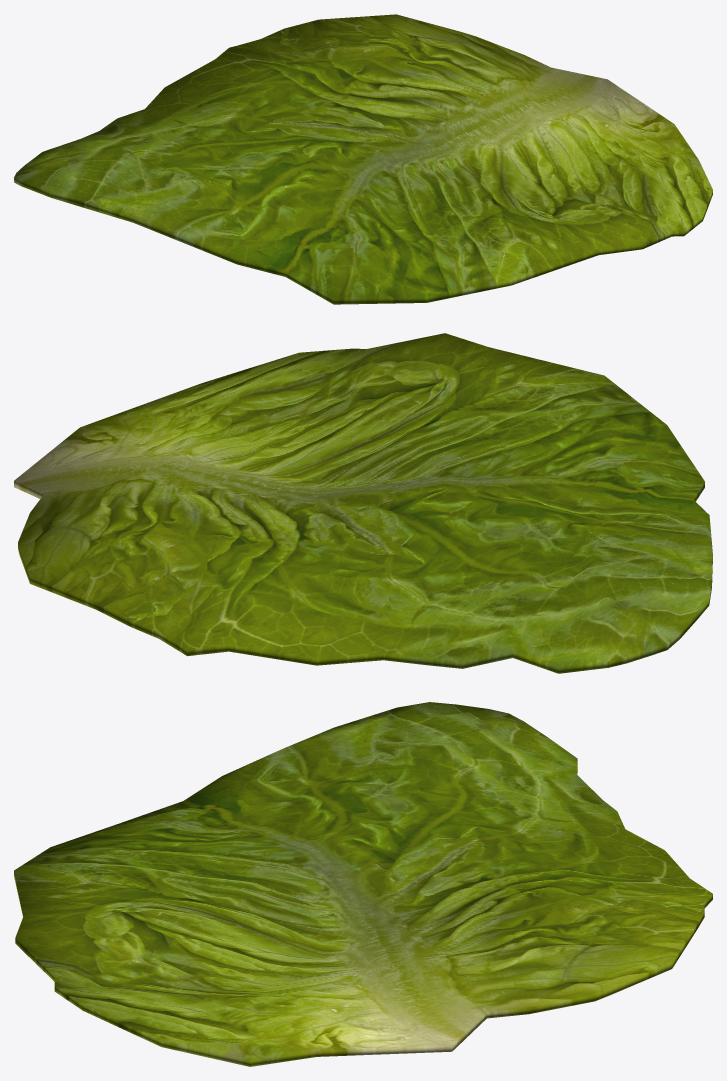
File: lettuce.fbx
3 renders of one model, top to bottom at view 1: azimuth 30°, elevation 25°; view 2: azimuth 150°, elevation 25°; view 3: azimuth 270°, elevation 25°, orthographic. The views are drawn at different scales.
Visible parts, largest first — view 1: lettuce; view 2: lettuce; view 3: lettuce.
Boxes of the visible parts, x1,y1,x2,y2 form: lettuce: [14, 14, 712, 304]; lettuce: [14, 333, 712, 673]; lettuce: [14, 702, 712, 1066].
Bounding box in the file's own units: 2.53 × 0.2494 × 2.39.
